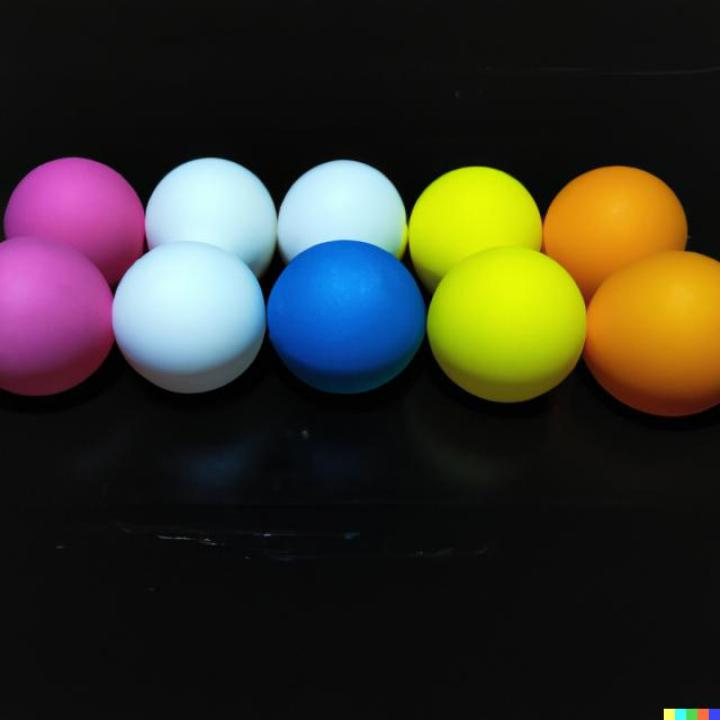orange: (586, 252, 720, 414), (542, 165, 688, 297)
white: (113, 241, 267, 393), (144, 158, 278, 276), (280, 162, 408, 269)
